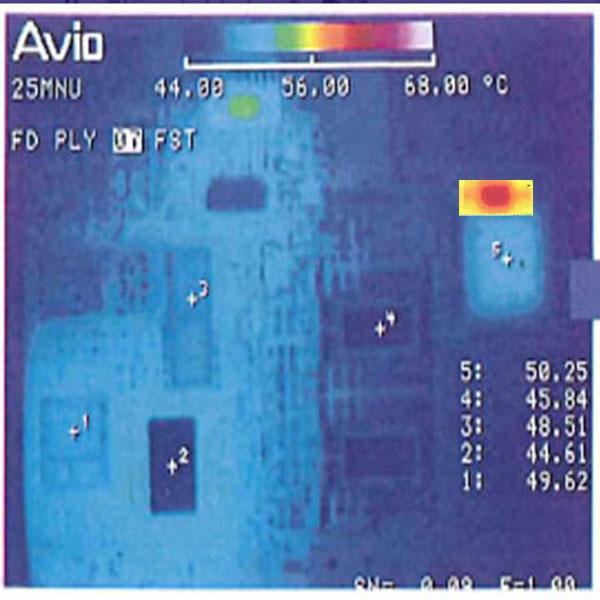componente_T: (455, 176, 537, 219), (289, 23, 351, 50)
